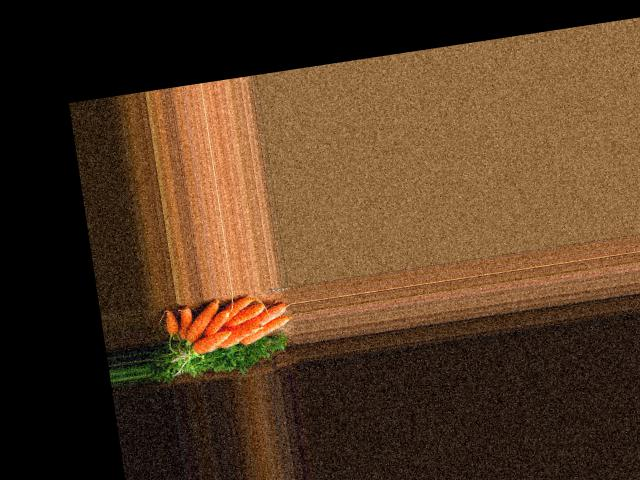carrot: (177, 299, 225, 347)
